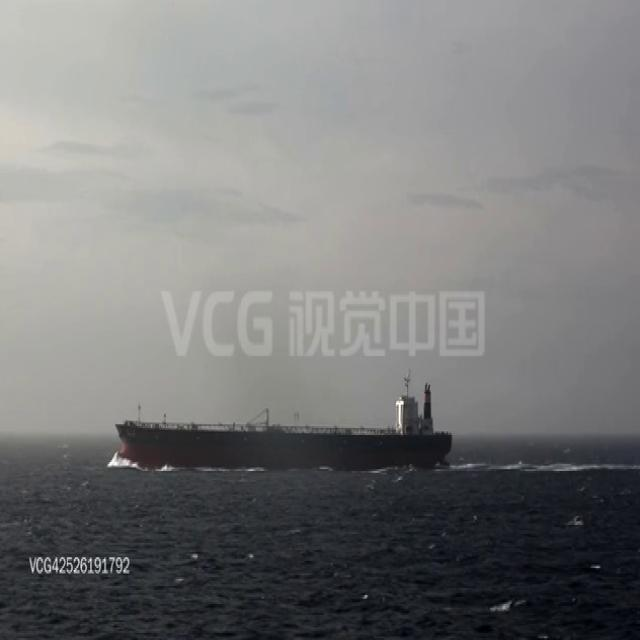cargoship: (114, 374, 452, 472)
